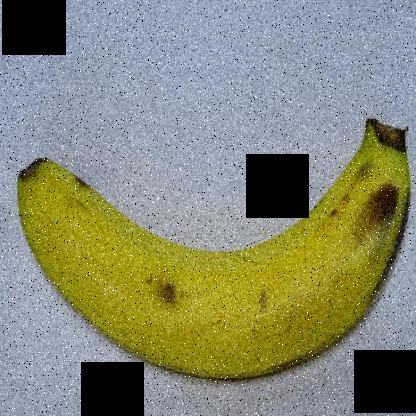freshripe: (5, 99, 415, 398)
